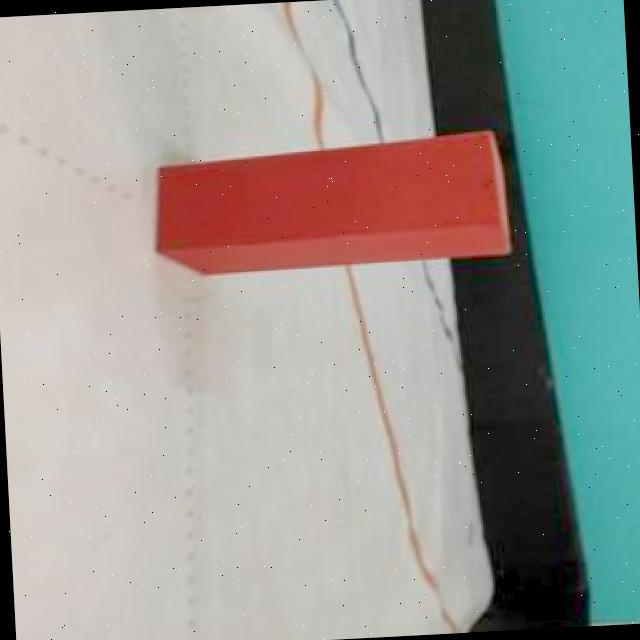redbox: (153, 128, 517, 278)
